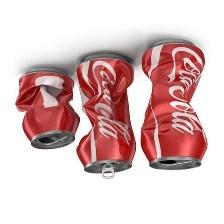can: (139, 37, 209, 174), (74, 51, 137, 179), (10, 62, 79, 157)
